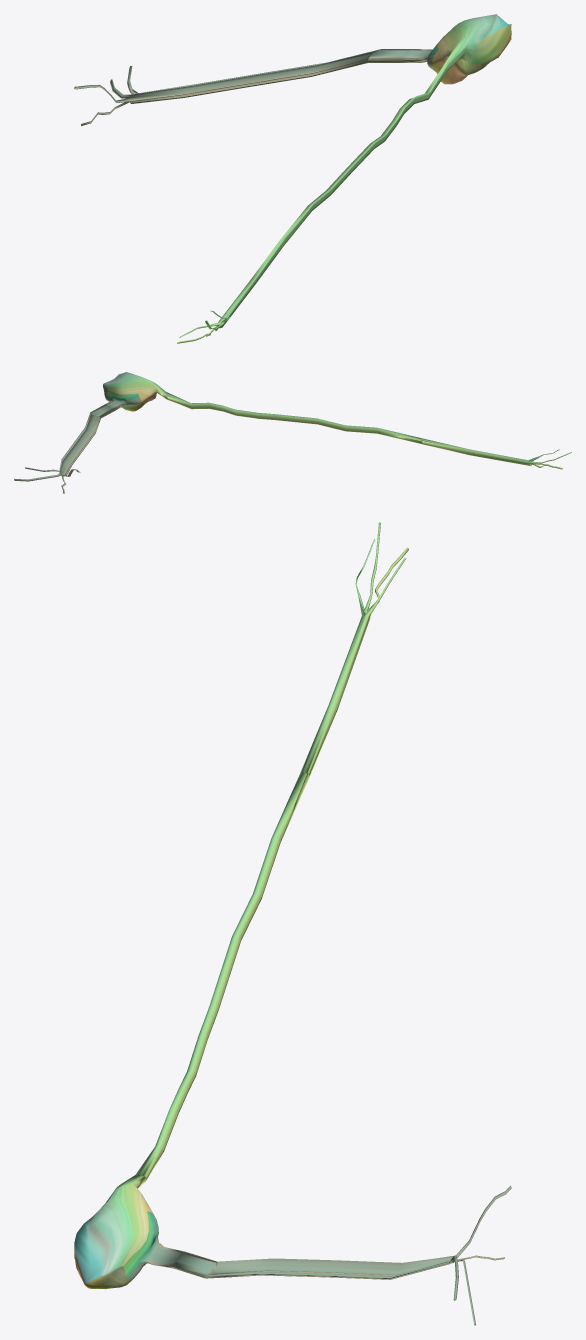
The model's file is lastneuron7.fbx.
3 renders of one model, top to bottom at view 1: azimuth 90°, elevation 25°; view 2: azimuth 150°, elevation 25°; view 3: azimuth 270°, elevation 25°, orthographic. The views are drawn at different scales.
Visible parts, largest first — view 1: done2.001 ex; view 2: done2.001 ex; view 3: done2.001 ex.
Boxes of the visible parts, x1=… form: done2.001 ex: x1=74, y1=14, x2=511, y2=343; done2.001 ex: x1=14, y1=372, x2=571, y2=493; done2.001 ex: x1=74, y1=522, x2=511, y2=1325.
Bounding box in the file's own units: 62486 × 15664 × 21966.
